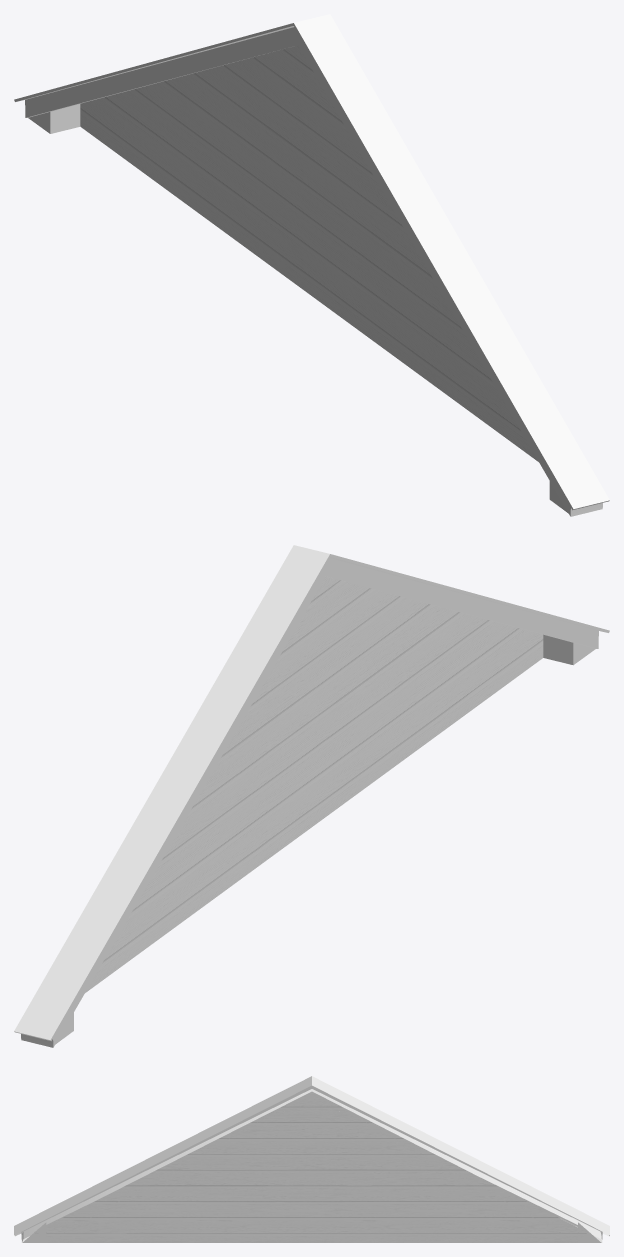
The model's file is Roof_End..fbx.
3 renders of one model, top to bottom at view 1: azimuth 30°, elevation 25°; view 2: azimuth 150°, elevation 25°; view 3: azimuth 270°, elevation 25°, orthographic. The views are drawn at different scales.
Visible parts, largest first — view 1: Roof_End.; view 2: Roof_End.; view 3: Roof_End..
Part boxes in pixels (left/top/right/bottom): Roof_End.: left=14, top=14, right=609, bottom=516; Roof_End.: left=14, top=545, right=609, bottom=1047; Roof_End.: left=14, top=1076, right=609, bottom=1242.
Bounding box in the file's own units: 40.91 × 317 × 1088.
